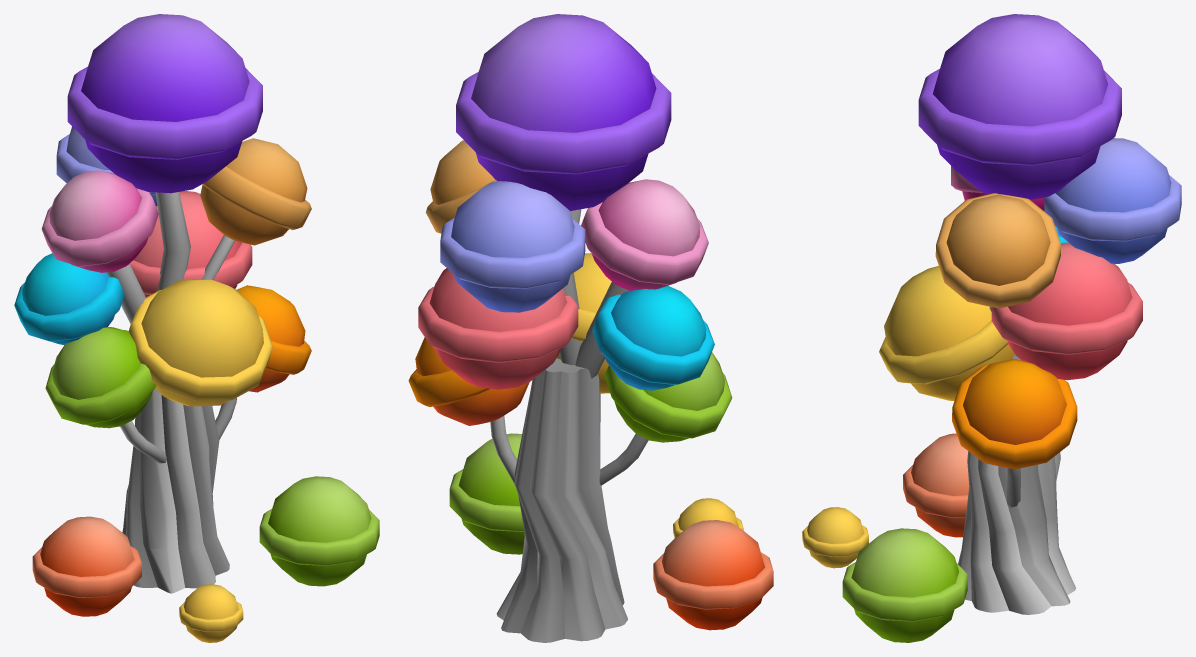
The model's file is Candy_Tree_01.fbx.
3 views of the same model, side by side, from view 1: azimuth 30°, elevation 25°; view 2: azimuth 150°, elevation 25°; view 3: azimuth 270°, elevation 25° (orthographic). The views are drawn at different scales.
Parts seen in each view (by area): view 1: Candy_Tree_01; view 2: Candy_Tree_01; view 3: Candy_Tree_01.
Part boxes in pixels (x1,y1,x2,y2): Candy_Tree_01: [14, 14, 379, 642]; Candy_Tree_01: [408, 14, 773, 642]; Candy_Tree_01: [802, 14, 1181, 642].
Bounding box in the file's own units: 402 × 682 × 415.
